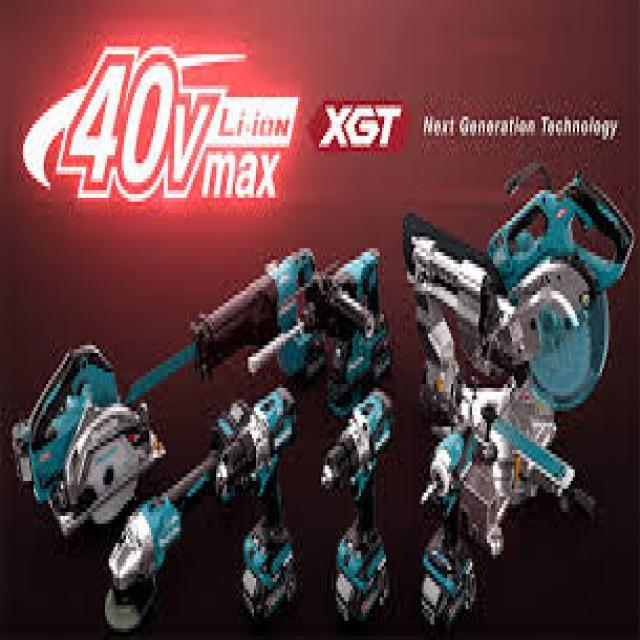drill: (214, 386, 302, 624), (317, 383, 397, 622), (418, 419, 483, 633)
